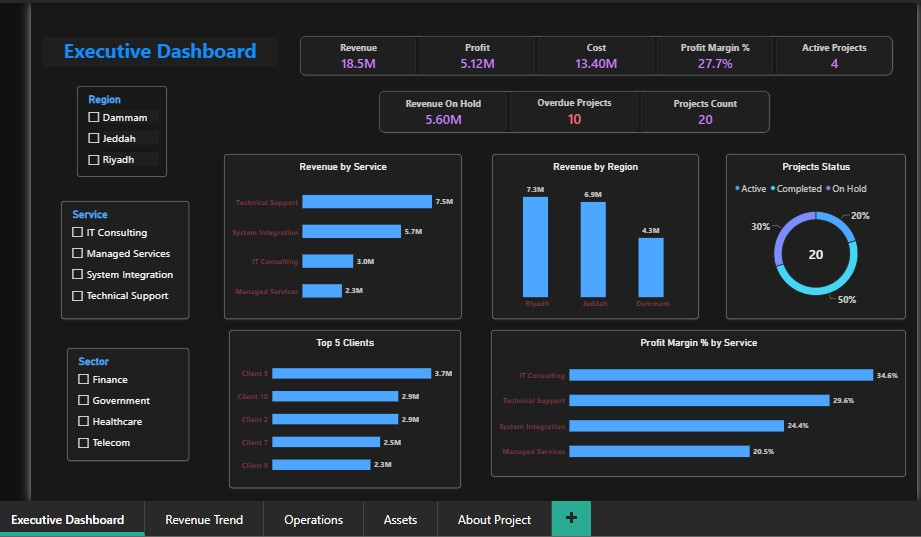

Layout of this report page (visuals, bound fields, positions):
{"tool":"powerbi","page":{"name":"Executive Dashboard","canvas":[1920,1080],"ordinal":0},"visuals":[{"type":"clusteredBarChart","title":"Revenue by Service","fields":{"Category":["DimServices.ServiceName"],"Y":["_Measures.Revenue"]},"box":[417.5,327.5,515,357.5],"z":0},{"type":"clusteredColumnChart","title":"Revenue by Region","fields":{"Category":["DimClients.Region"],"Y":["_Measures.Revenue"]},"box":[1000,327.5,447.5,357.5],"z":1000},{"type":"clusteredBarChart","title":"Top 5 Clients","fields":{"Category":["DimClients.ClientName"],"Y":["_Measures.Revenue"]},"box":[430,710,502.5,342.5],"z":2000},{"type":"slicer","fields":{"Values":["DimClients.Region"]},"box":[100,180,195.2,197.3],"z":3000},{"type":"cardVisual","fields":{"Data":["_Measures.Revenue","_Measures.Profit","_Measures.Cost","_Measures.Profit Margin %","_Measures.Active Projects"]},"box":[582.5,72.5,1285,85],"z":4000},{"type":"donutChart","title":"Projects Status","fields":{"Series":["FactProjects.Status"],"Y":["_Measures.Projects Count"]},"box":[1507.5,327.5,390,357.5],"z":5000},{"type":"textbox","box":[23.9,73.7,511.8,65.1],"z":6000},{"type":"slicer","fields":{"Values":["DimServices.ServiceName"]},"box":[65,430,277.6,255.9],"z":8000},{"type":"clusteredBarChart","title":"Profit Margin % by Service","fields":{"Category":["DimServices.ServiceName"],"Y":["_Measures.Profit Margin %"]},"box":[997.5,710,900,317.5],"z":8001},{"type":"cardVisual","fields":{"Data":["_Measures.Revenue On Hold","_Measures.Overdue Projects","_Measures.Projects Count"]},"box":[755,190,847.5,90],"z":8002},{"type":"slicer","fields":{"Values":["DimClients.Sector"]},"box":[77.5,747.5,265,245],"z":8003}]}

Visuals, with their boxes on the page's 1920x1080 design canvas (x1, y1, x2, y2). These are canvas units, not pixel positions in the 921x537 screenshot, which may show the page scaled, cropped or inside an application window:
"Revenue by Service" clusteredBarChart: bbox(418, 328, 932, 685)
"Revenue by Region" clusteredColumnChart: bbox(1000, 328, 1448, 685)
"Top 5 Clients" clusteredBarChart: bbox(430, 710, 932, 1052)
slicer - DimClients.Region: bbox(100, 180, 295, 377)
cardVisual - _Measures.Revenue x _Measures.Profit: bbox(582, 72, 1868, 158)
"Projects Status" donutChart: bbox(1508, 328, 1898, 685)
textbox: bbox(24, 74, 536, 139)
slicer - DimServices.ServiceName: bbox(65, 430, 343, 686)
"Profit Margin % by Service" clusteredBarChart: bbox(998, 710, 1898, 1028)
cardVisual - _Measures.Revenue On Hold x _Measures.Overdue Projects: bbox(755, 190, 1602, 280)
slicer - DimClients.Sector: bbox(78, 748, 342, 992)
